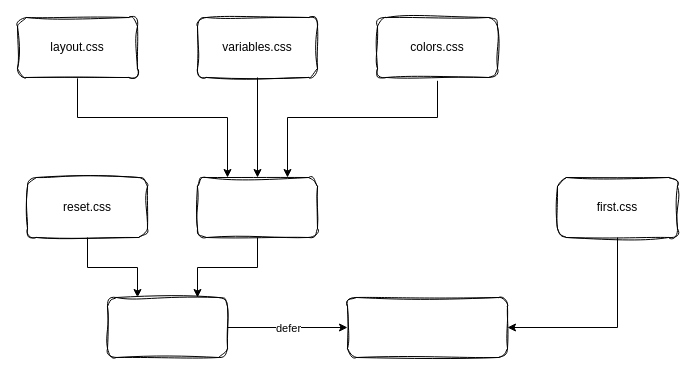
Some shapes in this 695 by 375 pixel diagram are drawn without their labels. Each missing label, with the box of its shape:
global.css: (196, 176, 318, 238)
guide.css: (106, 296, 228, 358)
guide.html: (346, 296, 508, 358)
